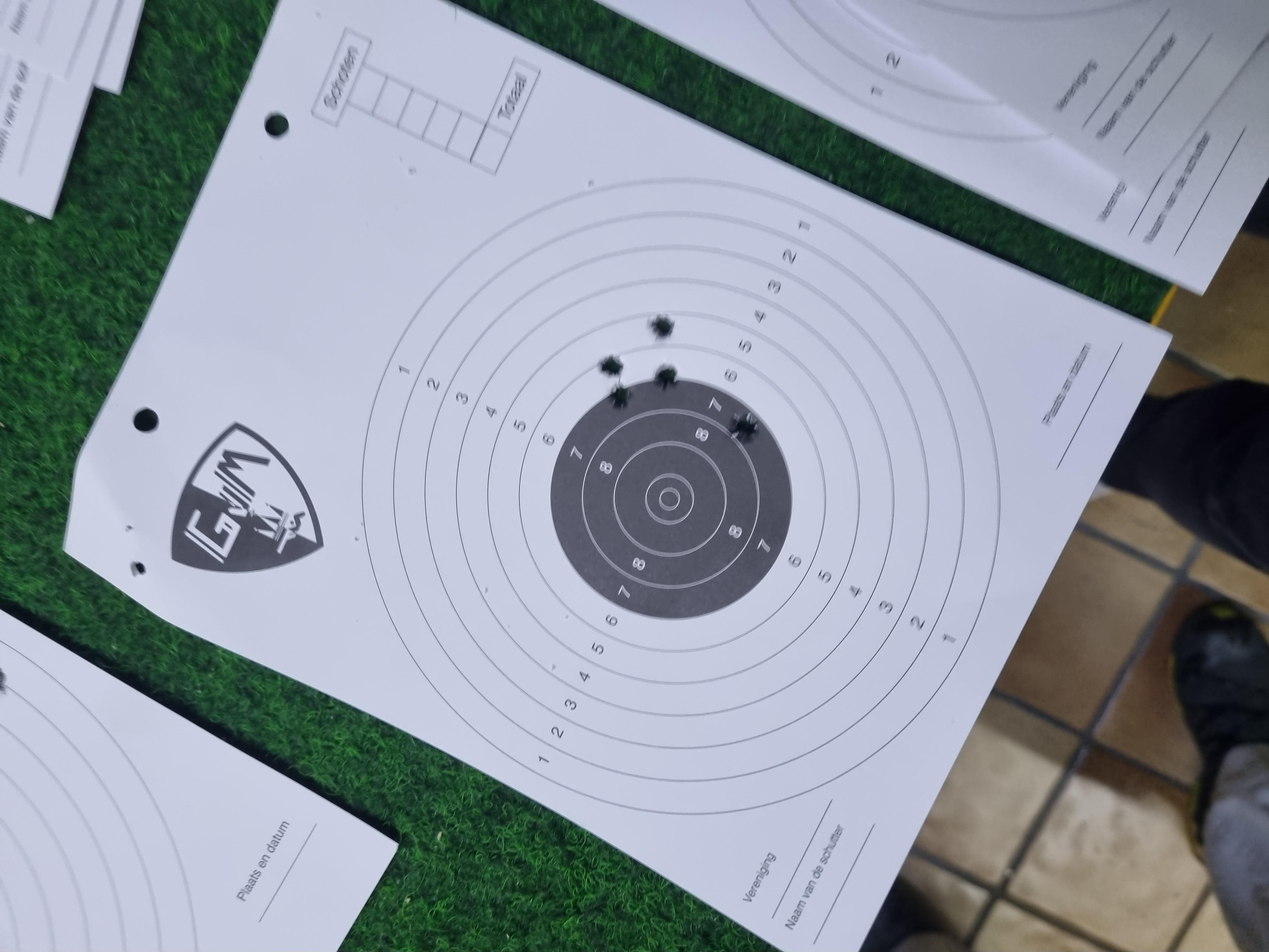hole: (677, 548, 719, 569), (815, 486, 851, 507), (748, 491, 784, 508), (722, 457, 760, 473), (765, 449, 796, 468)
